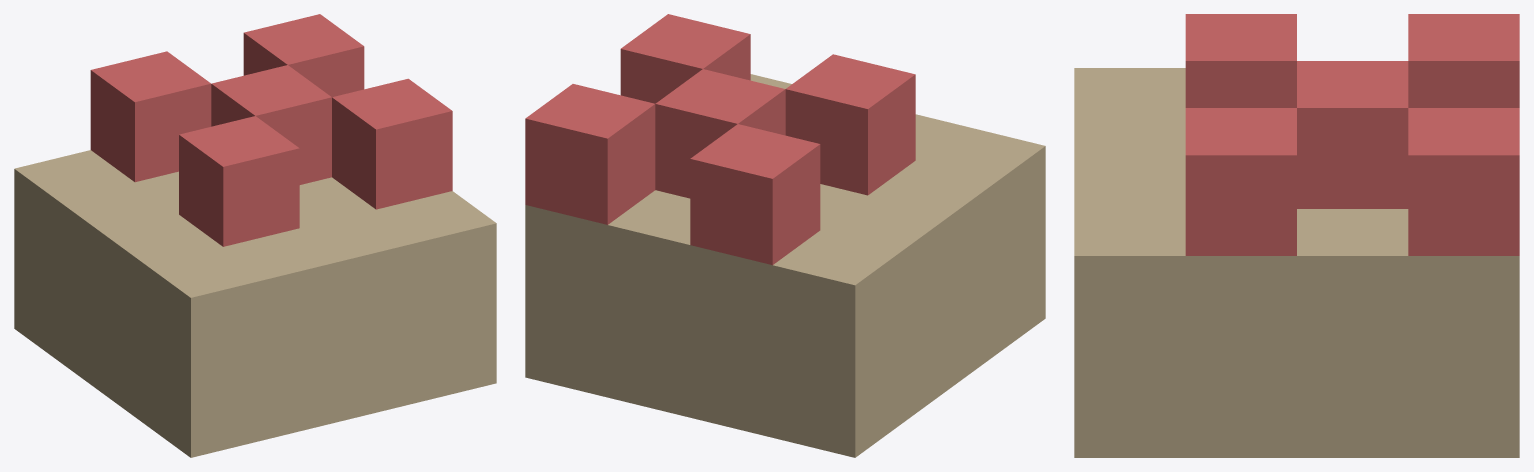
File: Prop_Farm_Crate_Apples.fbx
3 views of the same model, side by side, from view 1: azimuth 30°, elevation 25°; view 2: azimuth 150°, elevation 25°; view 3: azimuth 270°, elevation 25° (orthographic). The views are drawn at different scales.
Visible parts, largest first — view 1: Prop_Farm_Crate_Apples; view 2: Prop_Farm_Crate_Apples; view 3: Prop_Farm_Crate_Apples.
Boxes of the visible parts, left/top/right/bottom form: Prop_Farm_Crate_Apples: left=14, top=14, right=496, bottom=457; Prop_Farm_Crate_Apples: left=525, top=14, right=1045, bottom=457; Prop_Farm_Crate_Apples: left=1074, top=14, right=1519, bottom=457.
Bounding box in the file's own units: 40 × 40 × 30.
